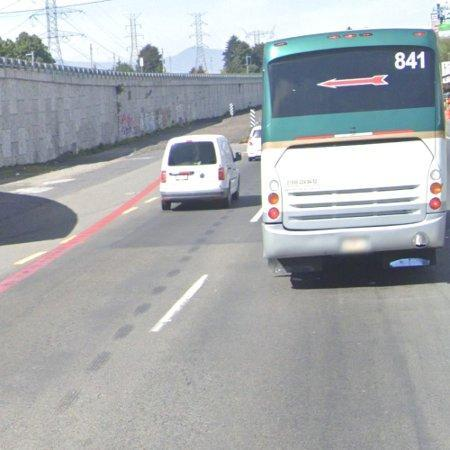buses: (262, 29, 448, 274)
